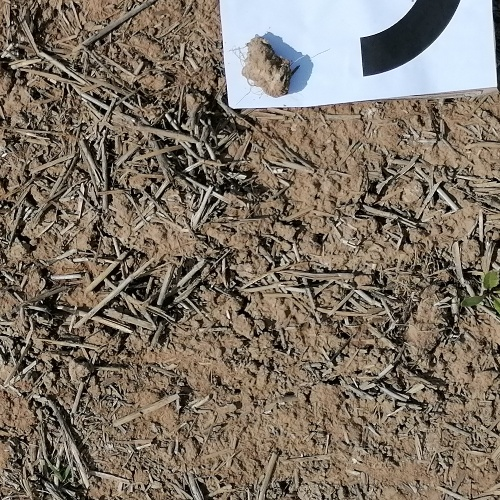beet: (458, 269, 500, 320)
